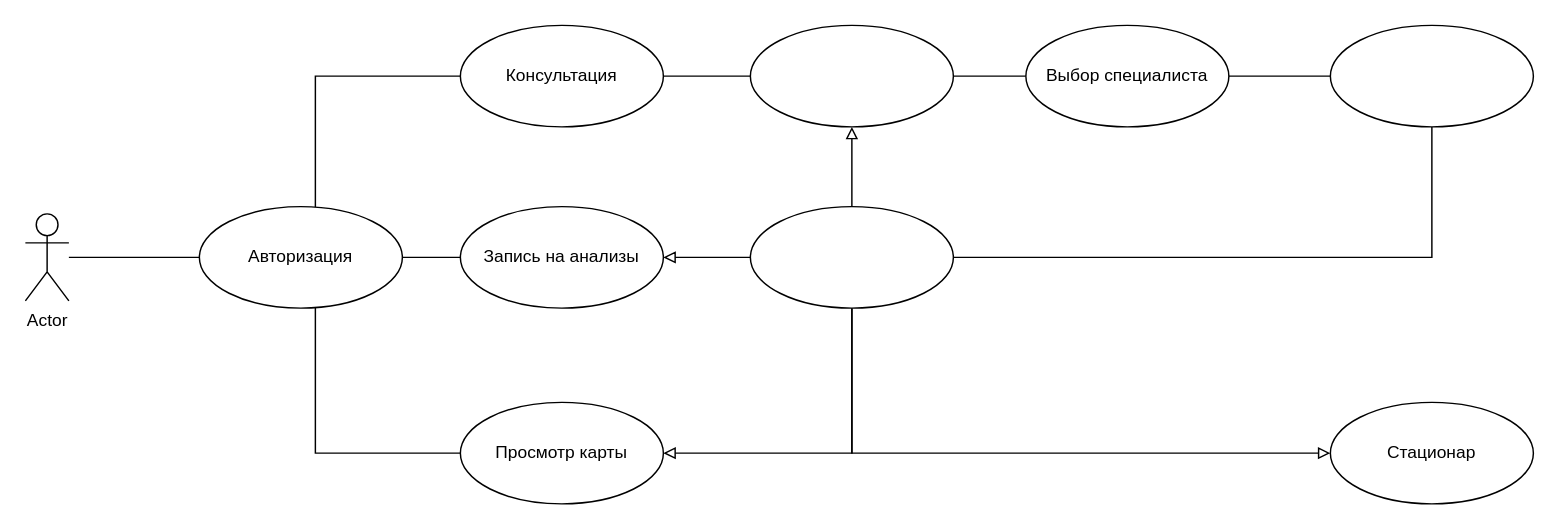
The diagram is 1559 pixels wide and 529 high, and some of its shapes have lost their labels. The centre of each missing label's shape, as x and y in pixels:
Дата: the point at 1431,75
Направление: the point at 851,75
Результат приёма: the point at 851,256
